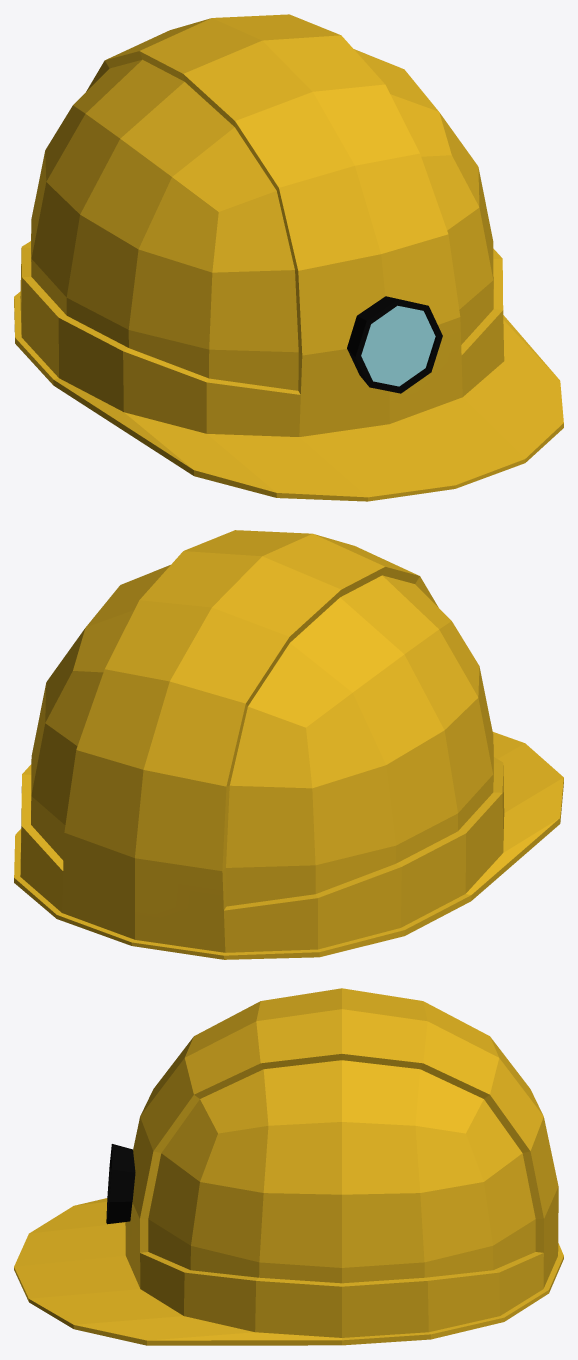
Rendered from LowPoly_HardHat_With_Torch.fbx.
The picture shows the model from 3 angles, top to bottom: view 1: azimuth 30°, elevation 25°; view 2: azimuth 150°, elevation 25°; view 3: azimuth 270°, elevation 25°; orthographic projection. The views are drawn at different scales.
Parts seen in each view (by area): view 1: Cone; view 2: Cone; view 3: Cone.
Part boxes in pixels (x1=…): Cone: x1=14, y1=14, x2=563, y2=501; Cone: x1=14, y1=530, x2=563, y2=959; Cone: x1=14, y1=988, x2=563, y2=1345.
Size of the model in its own units: 17.98 by 12.62 by 24.13.
